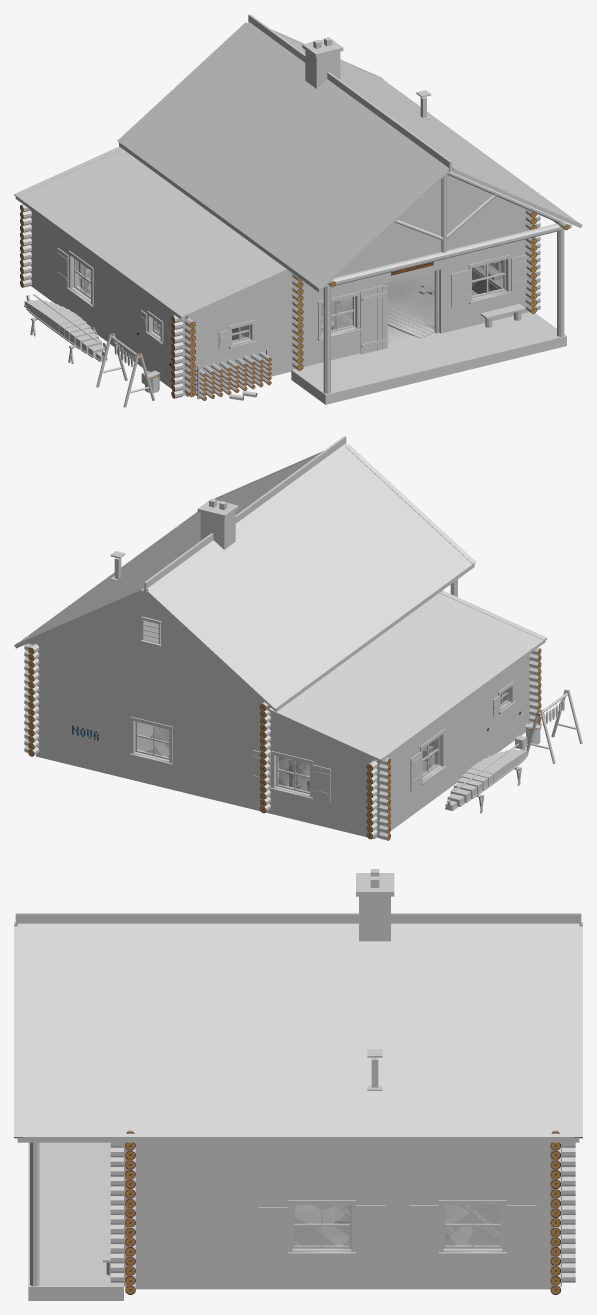
The model's file is cabin_fisher.glb.
The picture shows the model from 3 angles, top to bottom: view 1: azimuth 30°, elevation 25°; view 2: azimuth 150°, elevation 25°; view 3: azimuth 270°, elevation 25°; orthographic projection. The views are drawn at different scales.
Parts seen in each view (by area): view 1: cabin_fisher; view 2: cabin_fisher; view 3: cabin_fisher.
Boxes of the visible parts, x1,y1,x2,y2 form: cabin_fisher: [14, 14, 582, 407]; cabin_fisher: [14, 436, 582, 840]; cabin_fisher: [14, 869, 582, 1300].
Size of the model in its own units: 15.81 by 8.92 by 13.38.
Materials: 4 (3 with a texture image).
